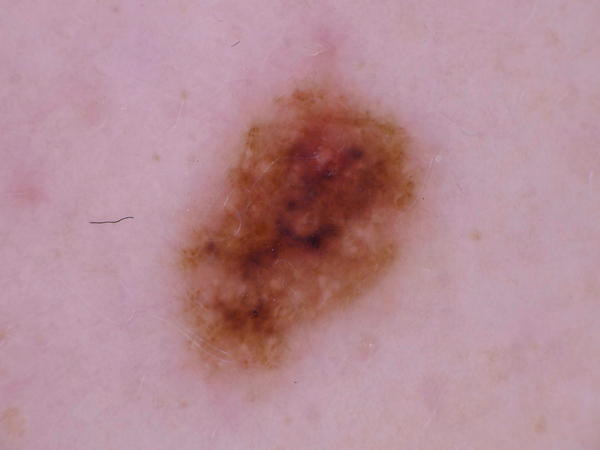Color changes: (317, 206, 367, 249)
